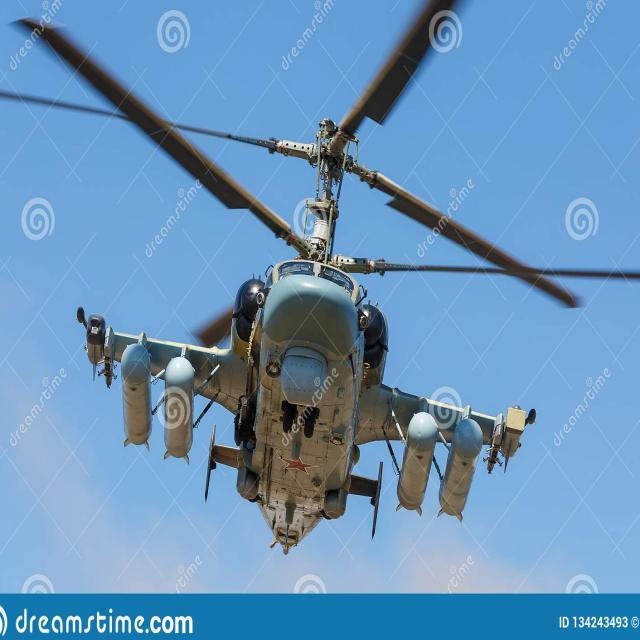helicopter: (1, 1, 640, 563)
